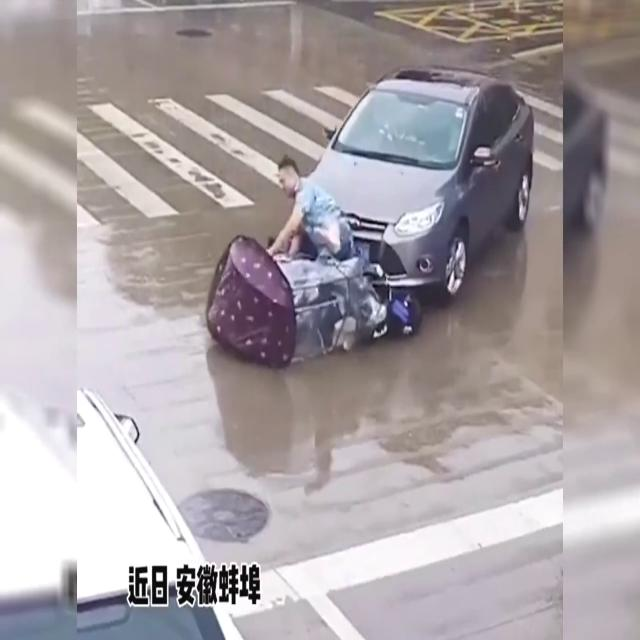accident: (208, 64, 538, 368)
